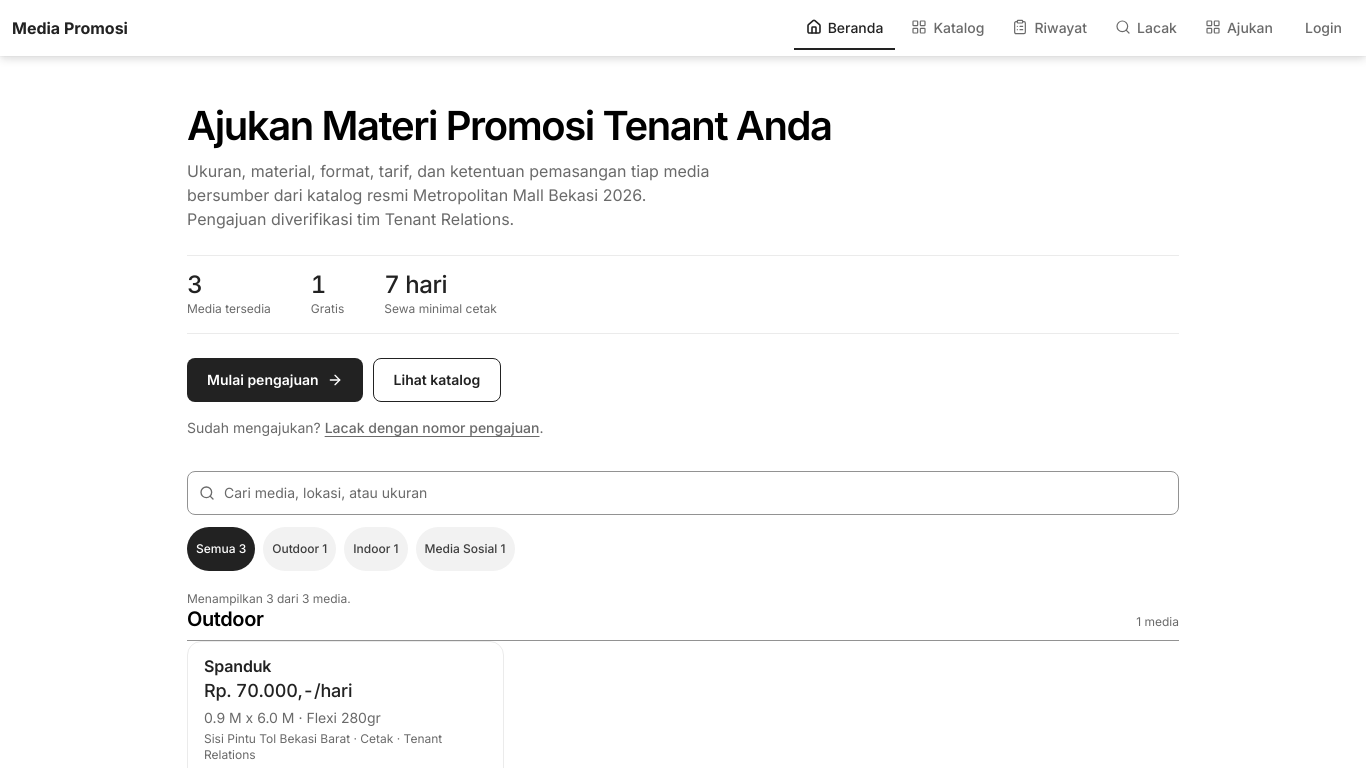
it: PromoLandingPage - pencarian & filter katalog › klik chip kategori → kartu kategori lain hilang beserta judulnya
Check: the heading "Spanduk" is shown, box x1=204 y1=656 x2=271 y2=676
Step 1. Click the button "Indoor 1" → [376, 549], box x1=344 y1=527 x2=408 y2=571
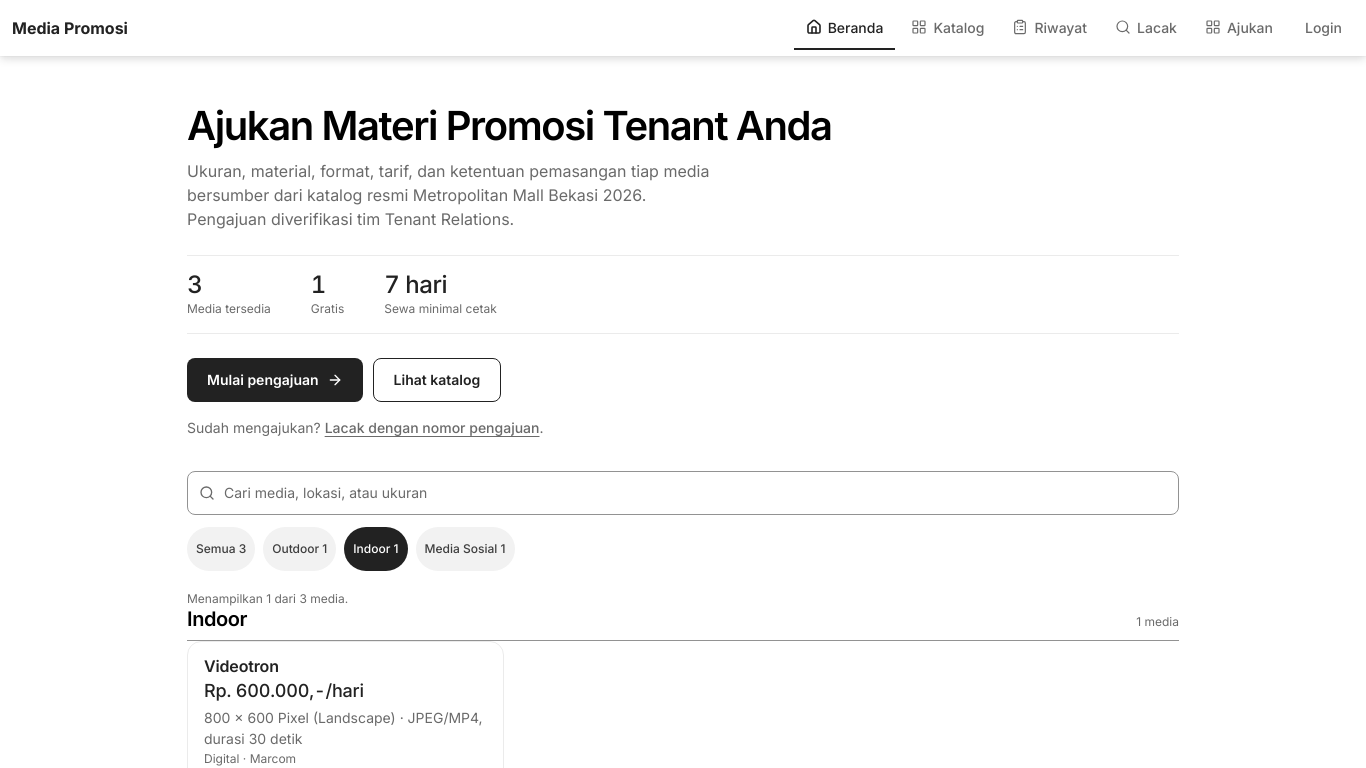
Check: the heading "Videotron" is shown, box x1=204 y1=656 x2=279 y2=676
Check: the heading "Spanduk" is gone
